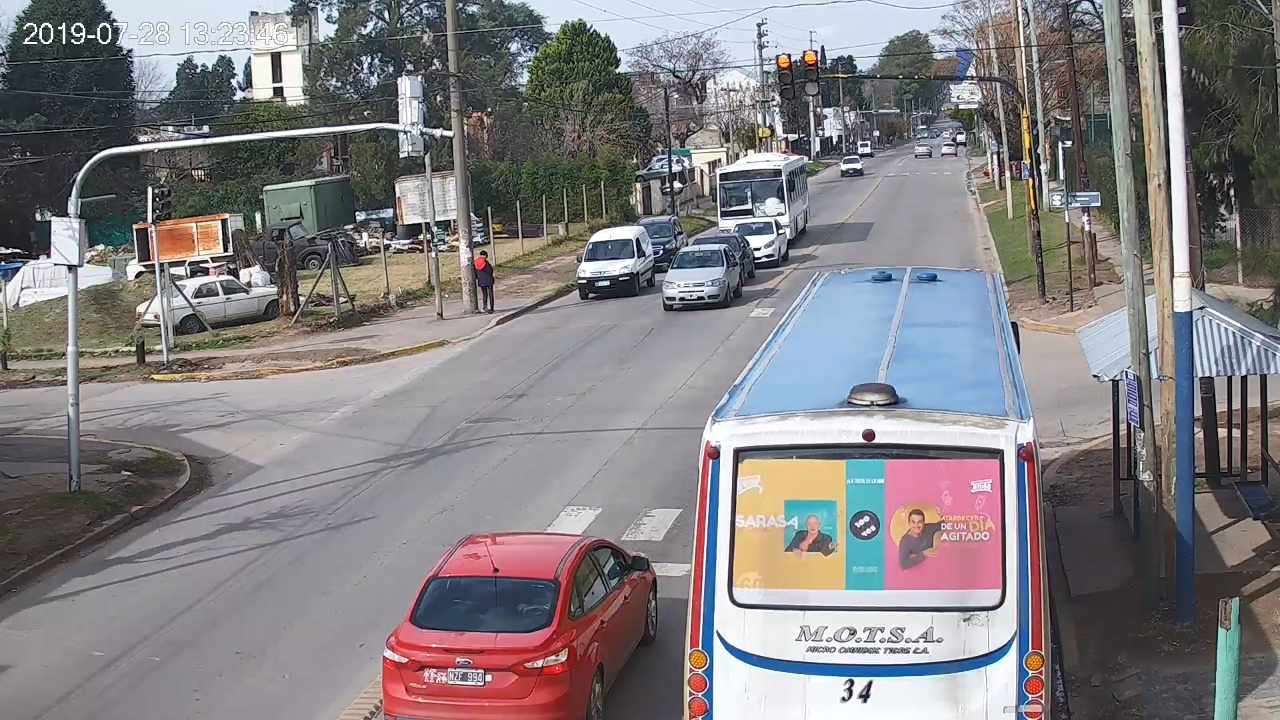bus: (682, 265, 1046, 720)
car: (383, 533, 658, 720)
front car: (576, 226, 655, 300)
traffic light: (777, 54, 795, 99), (803, 51, 819, 96)
